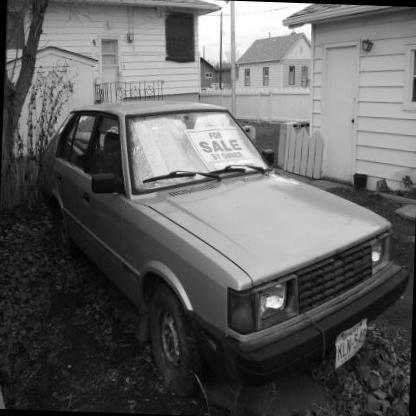car: (31, 92, 412, 395)
